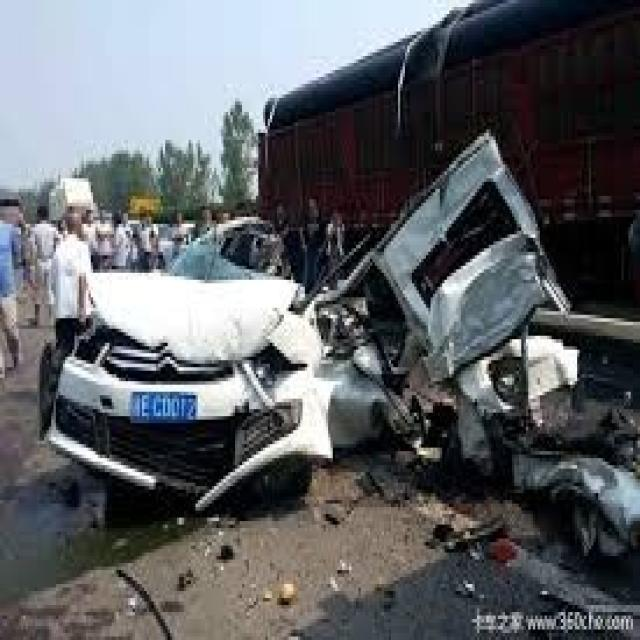accident: (34, 135, 580, 530)
